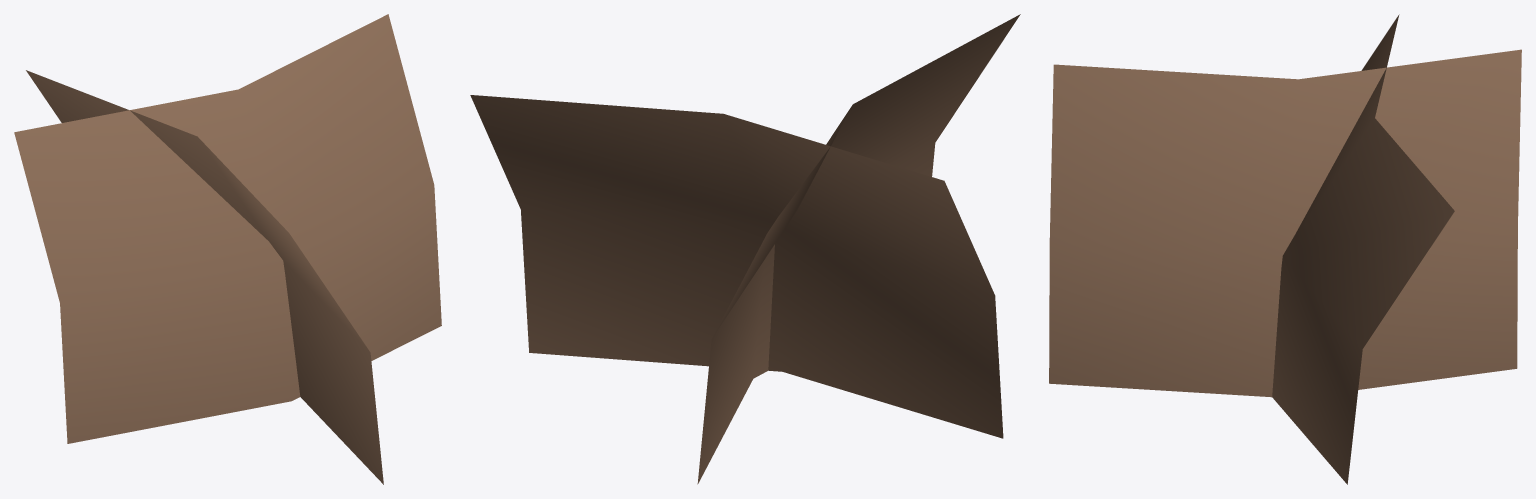
The model's file is GrassPlanes_b_TwoS_03.fbx.
The picture shows the model from 3 angles, left to right: view 1: azimuth 30°, elevation 25°; view 2: azimuth 150°, elevation 25°; view 3: azimuth 270°, elevation 25°; orthographic projection. The views are drawn at different scales.
Visible parts, largest first — view 1: GrassPlanes_b_TwoS_03; view 2: GrassPlanes_b_TwoS_03; view 3: GrassPlanes_b_TwoS_03.
Boxes of the visible parts, x1,y1,x2,y2 form: GrassPlanes_b_TwoS_03: (14,14,441,484); GrassPlanes_b_TwoS_03: (470,14,1020,484); GrassPlanes_b_TwoS_03: (1049,14,1521,484).
Bounding box in the file's own units: 75.07 × 48.67 × 76.13.
